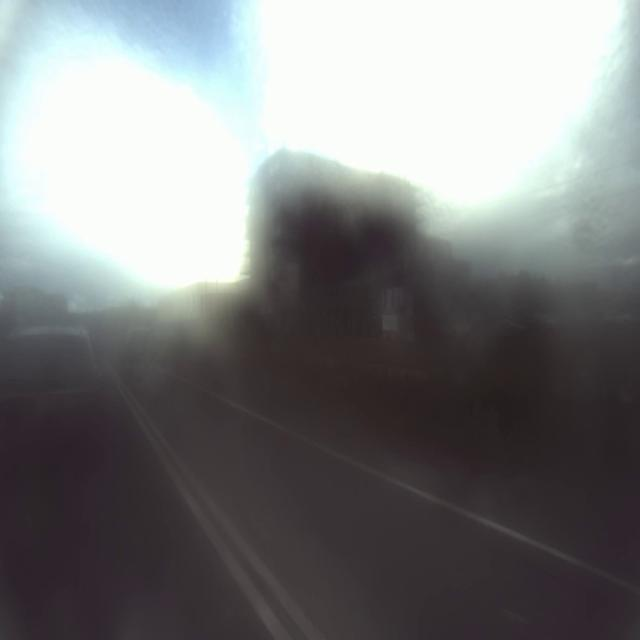car: (9, 305, 100, 450)
